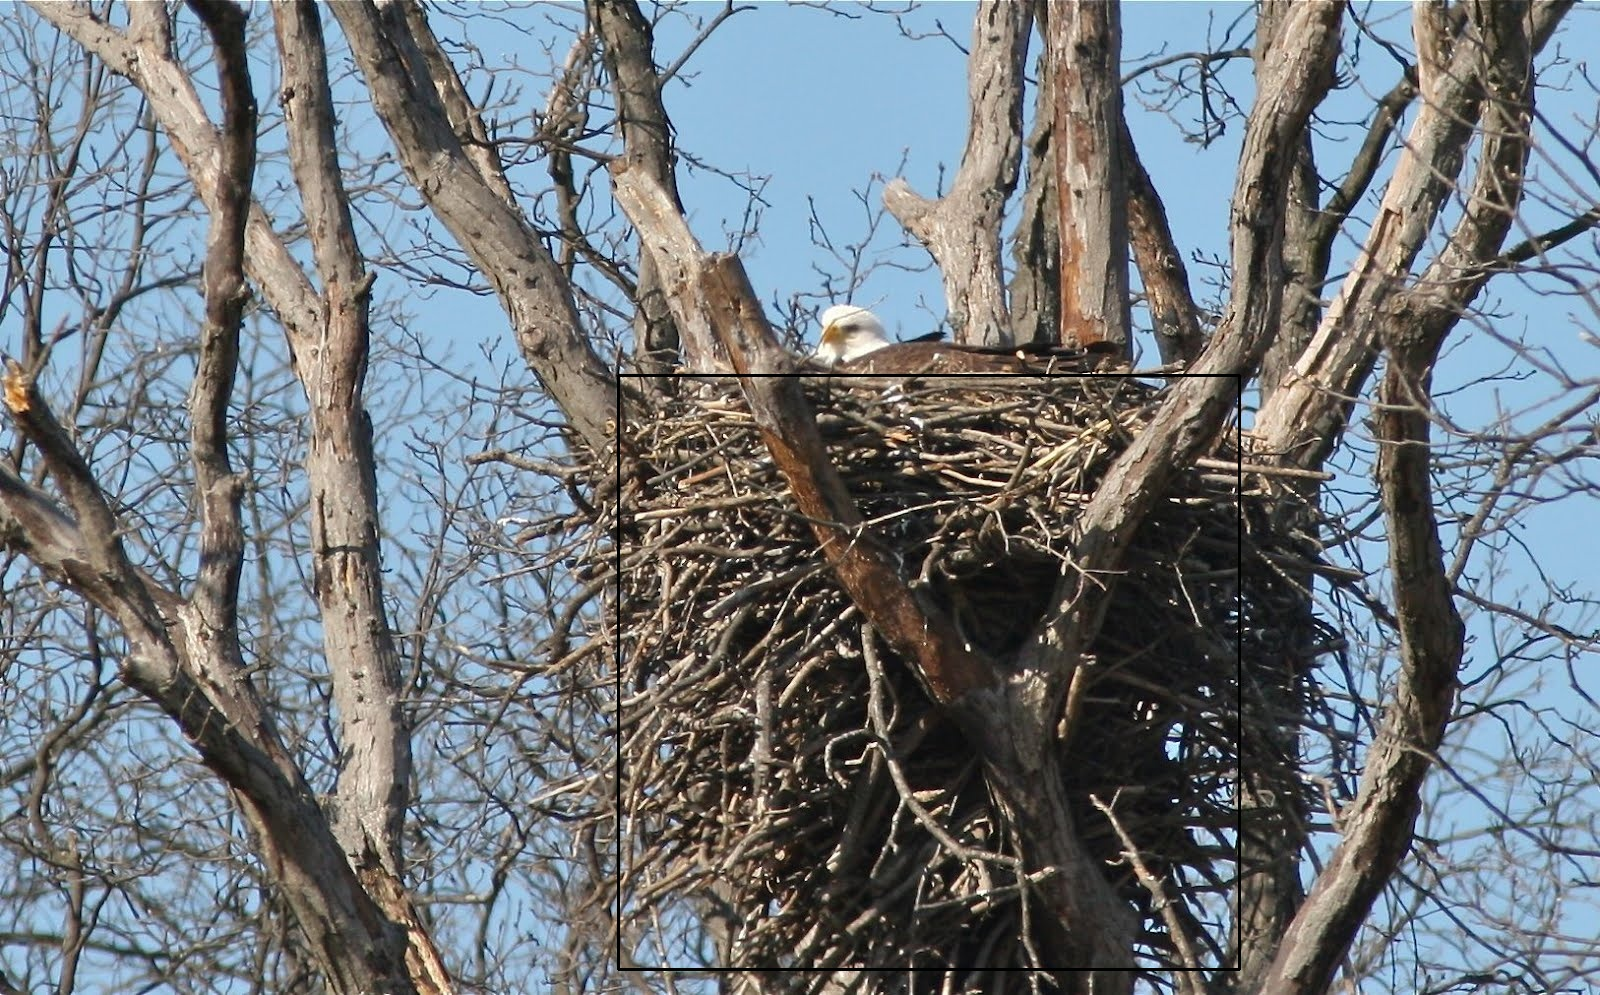bird-nest: (618, 375, 1239, 969)
